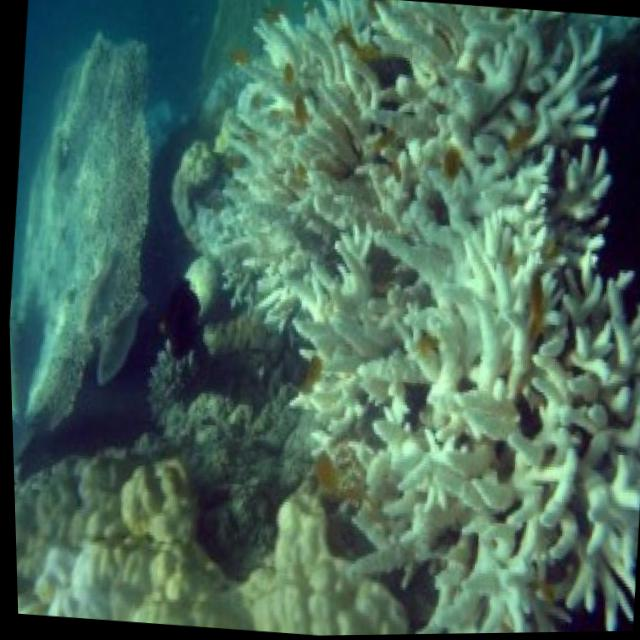Bleached Coral: (139, 0, 640, 638)
